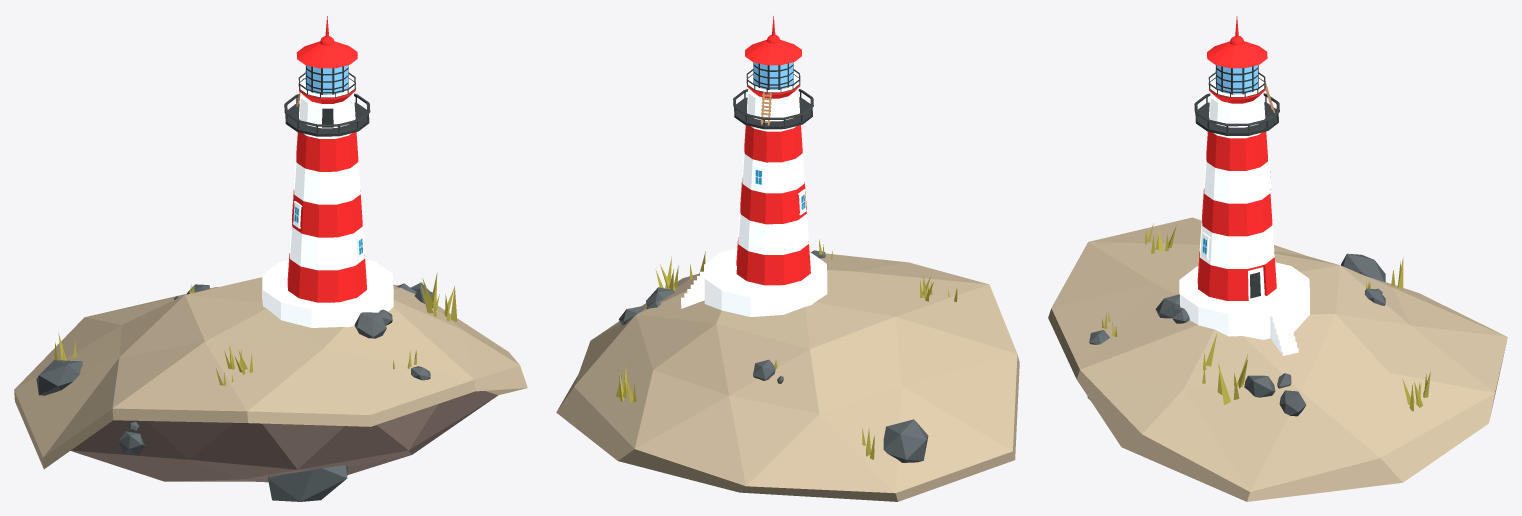
Rendered from Lighthouse.fbx.
3 renders of one model, left to right at view 1: azimuth 30°, elevation 25°; view 2: azimuth 150°, elevation 25°; view 3: azimuth 270°, elevation 25°, orthographic. The views are drawn at different scales.
Visible parts, largest first — view 1: island, lighthouse; view 2: island, lighthouse; view 3: island, lighthouse.
Boxes of the visible parts, box(x1,y1,x2,y2) form: island: box(14, 272, 527, 501); lighthouse: box(262, 16, 393, 327); island: box(556, 239, 1019, 501); lighthouse: box(681, 16, 827, 316); island: box(1048, 217, 1507, 501); lighthouse: box(1179, 16, 1309, 355).
Bounding box in the file's own units: 706 × 692 × 616.
